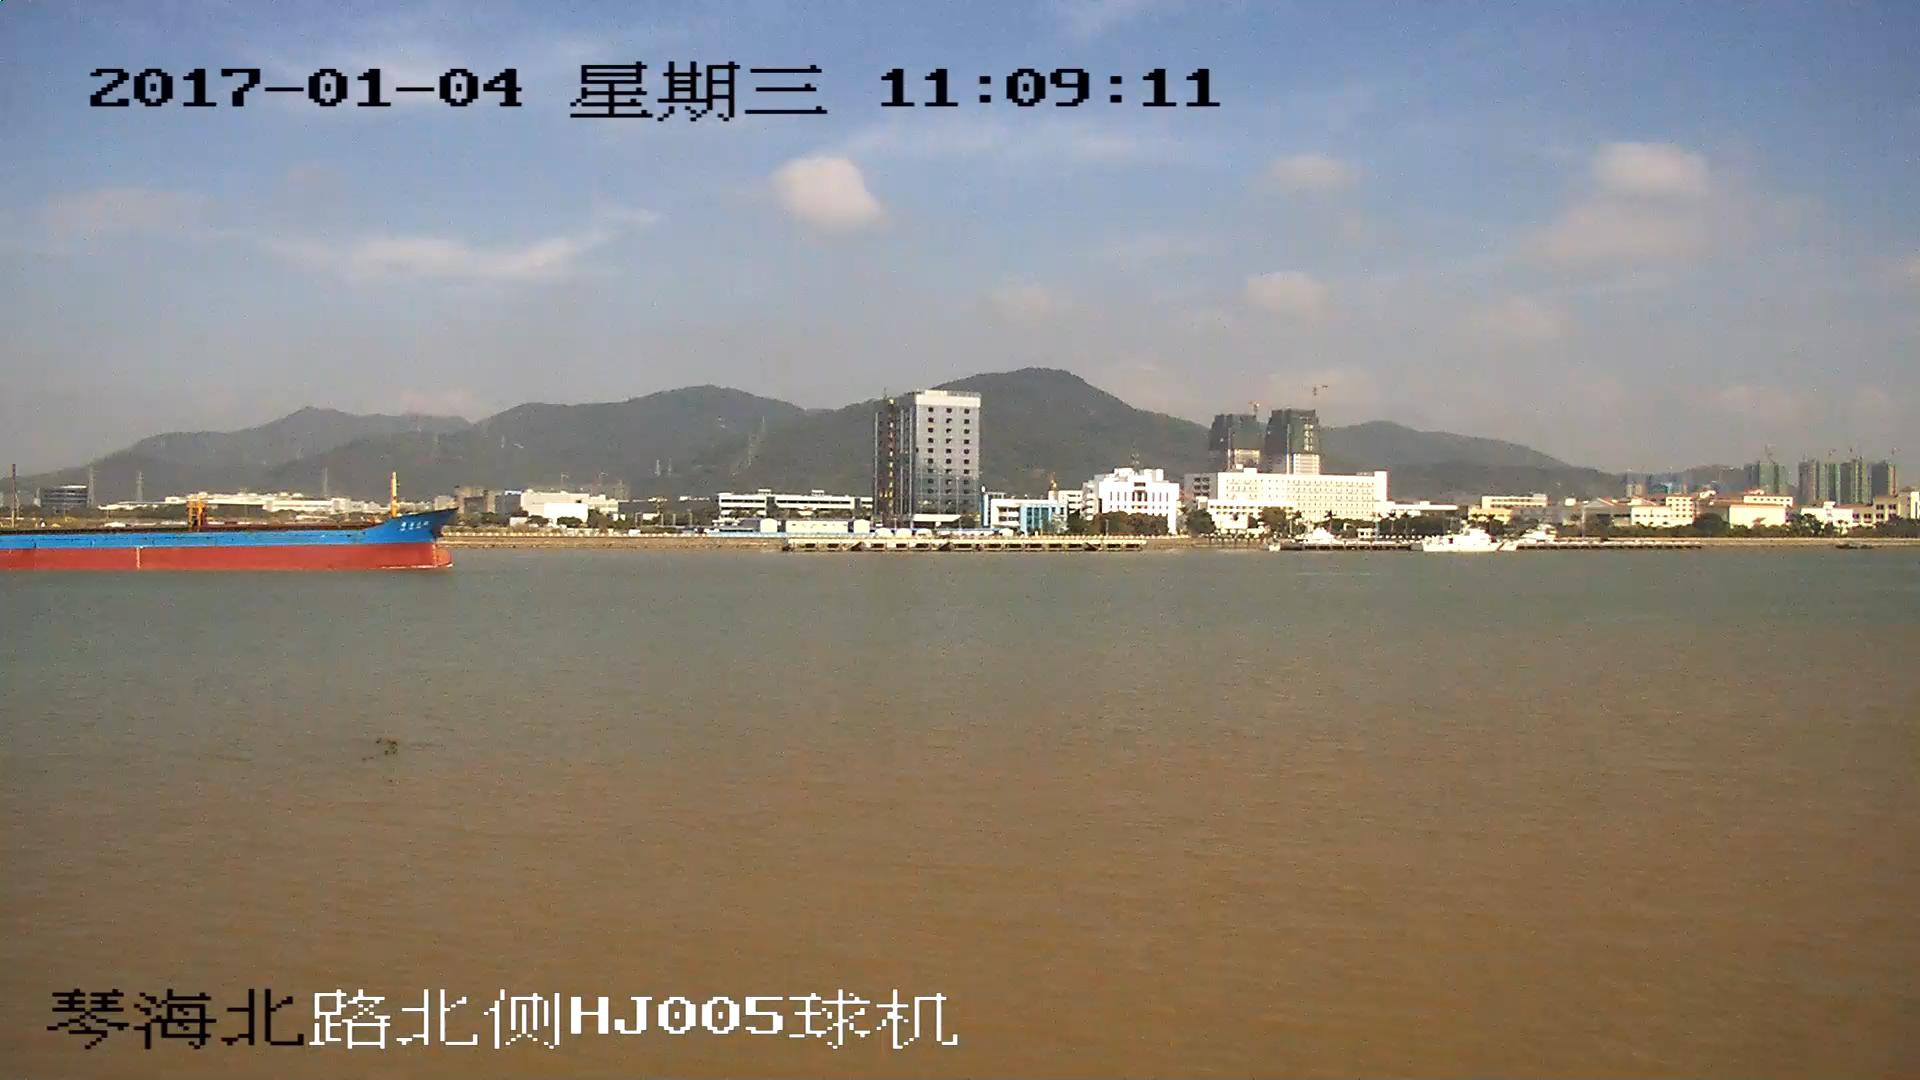general cargo ship: (1, 476, 456, 574)
